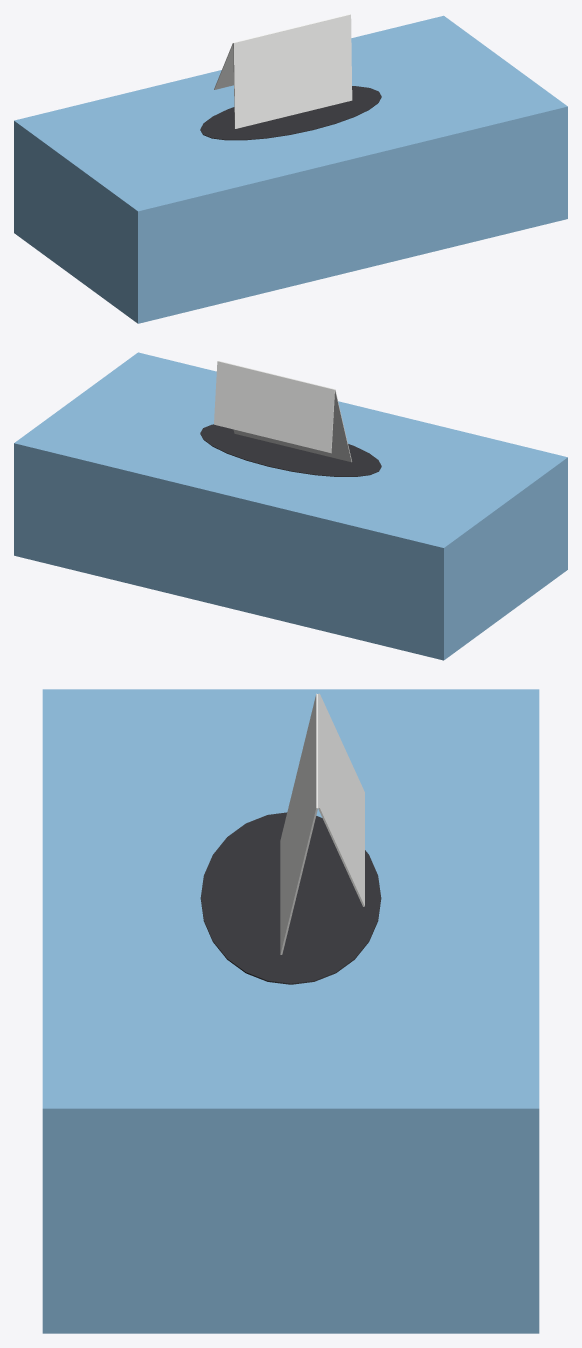
File: lencos_de_papel_caixa.dae
3 renders of one model, top to bottom at view 1: azimuth 30°, elevation 25°; view 2: azimuth 150°, elevation 25°; view 3: azimuth 270°, elevation 25°, orthographic. The views are drawn at different scales.
Visible parts, largest first — view 1: Lencos de papel - caixa (×3); view 2: Lencos de papel - caixa (×3); view 3: Lencos de papel - caixa (×3).
Boxes of the visible parts, x1=… form: Lencos de papel - caixa (×3): x1=14, y1=14, x2=567, y2=323; Lencos de papel - caixa (×3): x1=14, y1=352, x2=567, y2=660; Lencos de papel - caixa (×3): x1=42, y1=689, x2=539, y2=1333.
Bounding box in the file's own units: 220 × 110 × 93.14.
